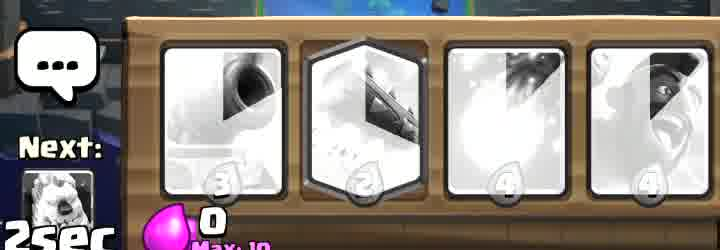ice-golem: (28, 169, 87, 229)
